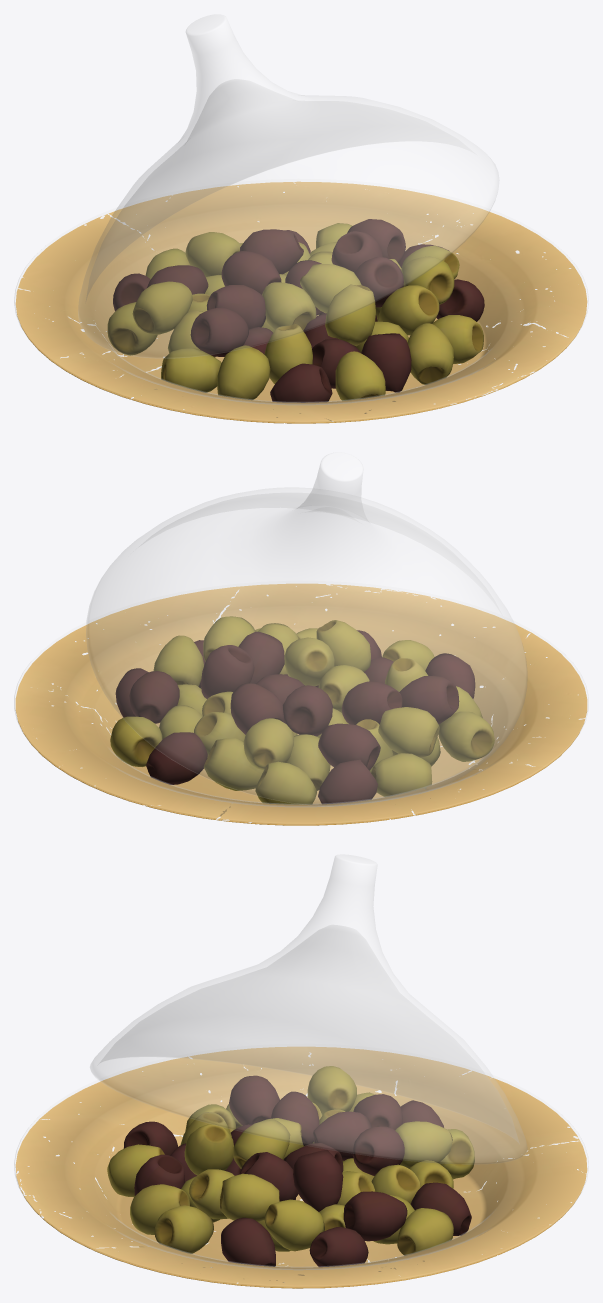
Rendered from prato-azeitonas.glb.
3 views of the same model, one above another, from view 1: azimuth 30°, elevation 25°; view 2: azimuth 150°, elevation 25°; view 3: azimuth 270°, elevation 25° (orthographic).
Visible parts, largest first — view 1: glassCover, goldLeaf, glassDish, olives; view 2: glassCover, glassDish, goldLeaf, olives; view 3: glassCover, goldLeaf, olives, glassDish.
Boxes of the visible parts, left/top/right/bottom form: glassCover: left=78, top=14, right=499, bottom=358; goldLeaf: left=15, top=181, right=587, bottom=423; glassDish: left=14, top=179, right=588, bottom=422; olives: left=107, top=219, right=484, bottom=402; glassCover: left=86, top=452, right=527, bottom=805; glassDish: left=14, top=581, right=588, bottom=824; goldLeaf: left=15, top=583, right=587, bottom=825; olives: left=110, top=616, right=494, bottom=804; glassCover: left=90, top=854, right=527, bottom=1164; goldLeaf: left=15, top=1047, right=587, bottom=1288; olives: left=107, top=1066, right=474, bottom=1267; glassDish: left=14, top=1057, right=588, bottom=1287.
Bounding box in the file's own units: 0.4593 × 0.2855 × 0.4593.
4 materials, 2 textured.
